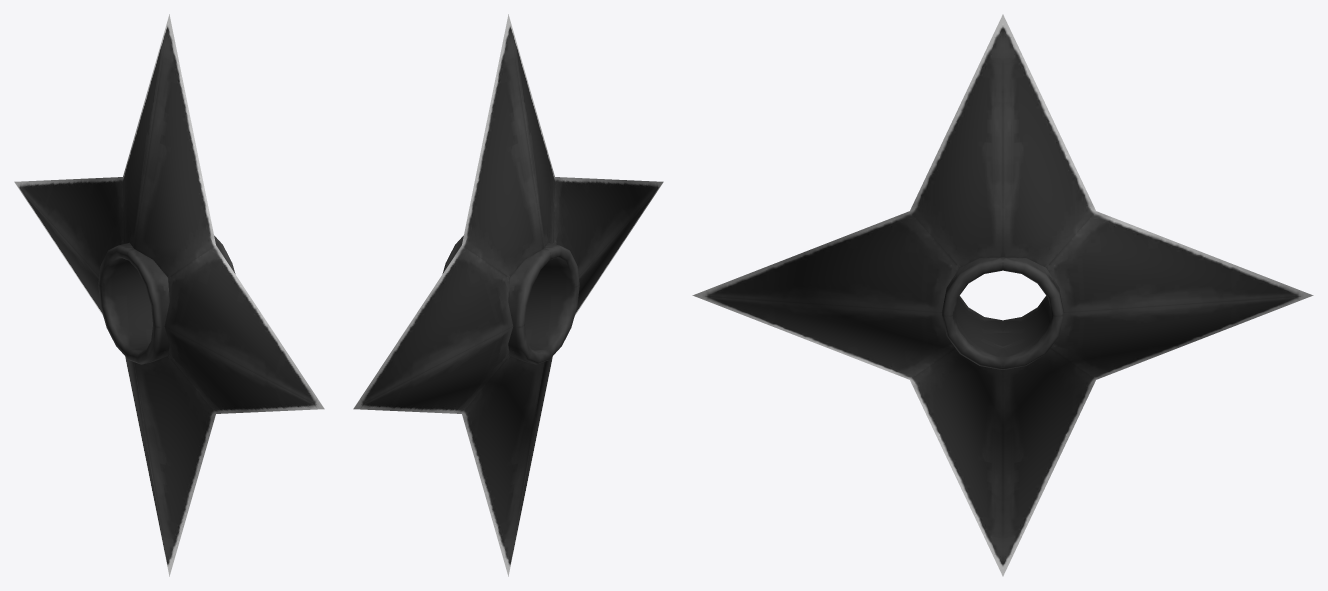
Rendered from shuriken.glb.
3 views of the same model, side by side, from view 1: azimuth 30°, elevation 25°; view 2: azimuth 150°, elevation 25°; view 3: azimuth 270°, elevation 25° (orthographic).
Parts seen in each view (by area): view 1: shuriken; view 2: shuriken; view 3: shuriken.
Part boxes in pixels (left/top/right/bottom): shuriken: left=14, top=14, right=324, bottom=576; shuriken: left=353, top=14, right=663, bottom=576; shuriken: left=692, top=14, right=1313, bottom=576.
Bounding box in the file's own units: 0.0314 × 0.2 × 0.2.
Materials: 1 (1 with a texture image).
